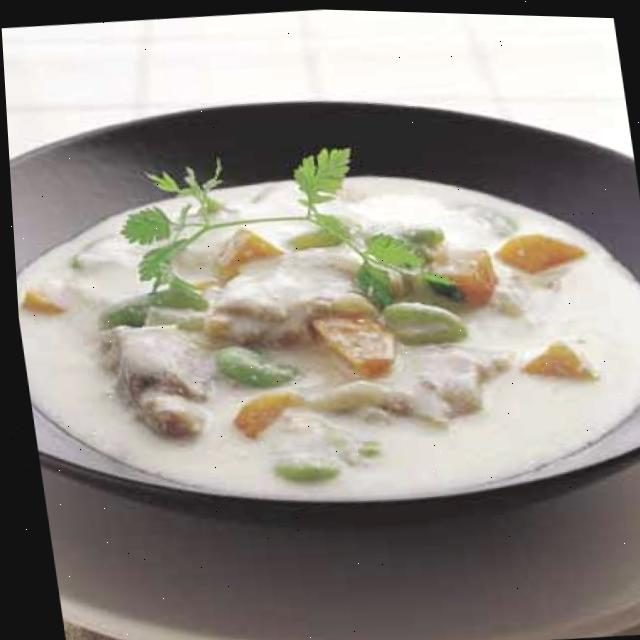汤锅炖物: (2, 49, 640, 561)
